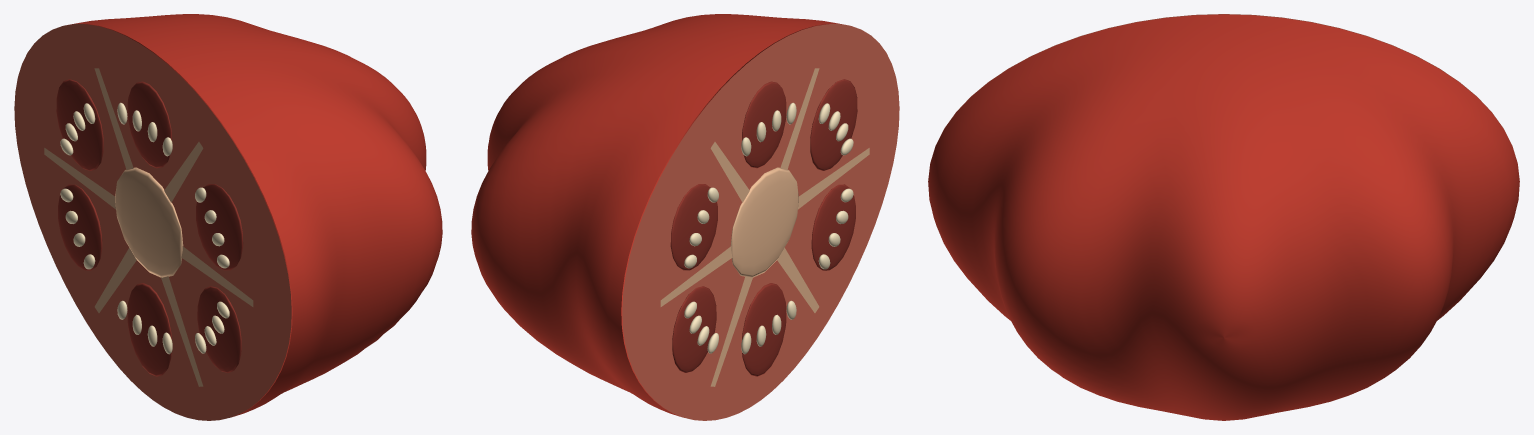
Rendered from beefsteak_half.glb.
3 renders of one model, left to right at view 1: azimuth 30°, elevation 25°; view 2: azimuth 150°, elevation 25°; view 3: azimuth 270°, elevation 25°, orthographic. The views are drawn at different scales.
Parts seen in each view (by area): view 1: Prepared Beefsteak half, Thick six-chamber Beefsteak flesh, Six unequal Beefsteak gel pockets, Broad Beefsteak central pith, Modeled plump Beefsteak seed; view 2: Prepared Beefsteak half, Thick six-chamber Beefsteak flesh, Six unequal Beefsteak gel pockets, Broad Beefsteak central pith, Modeled plump Beefsteak seed; view 3: Prepared Beefsteak half, Thick six-chamber Beefsteak flesh.
Part boxes in pixels (box(x1,y1,x2,y2)): Prepared Beefsteak half: box(68, 14, 442, 416); Thick six-chamber Beefsteak flesh: box(14, 24, 291, 420); Six unequal Beefsteak gel pockets: box(56, 79, 243, 376); Broad Beefsteak central pith: box(44, 68, 253, 386); Modeled plump Beefsteak seed: box(60, 102, 229, 354); Prepared Beefsteak half: box(471, 14, 845, 416); Thick six-chamber Beefsteak flesh: box(622, 24, 899, 420); Six unequal Beefsteak gel pockets: box(670, 79, 857, 376); Broad Beefsteak central pith: box(660, 68, 869, 386); Modeled plump Beefsteak seed: box(684, 102, 853, 354); Prepared Beefsteak half: box(928, 14, 1519, 420); Thick six-chamber Beefsteak flesh: box(928, 14, 1519, 178).
Bounding box in the file's own units: 0.9378 × 1.12 × 1.62.
